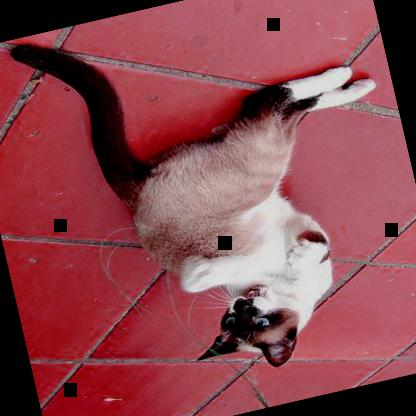cat: (6, 0, 415, 411)
